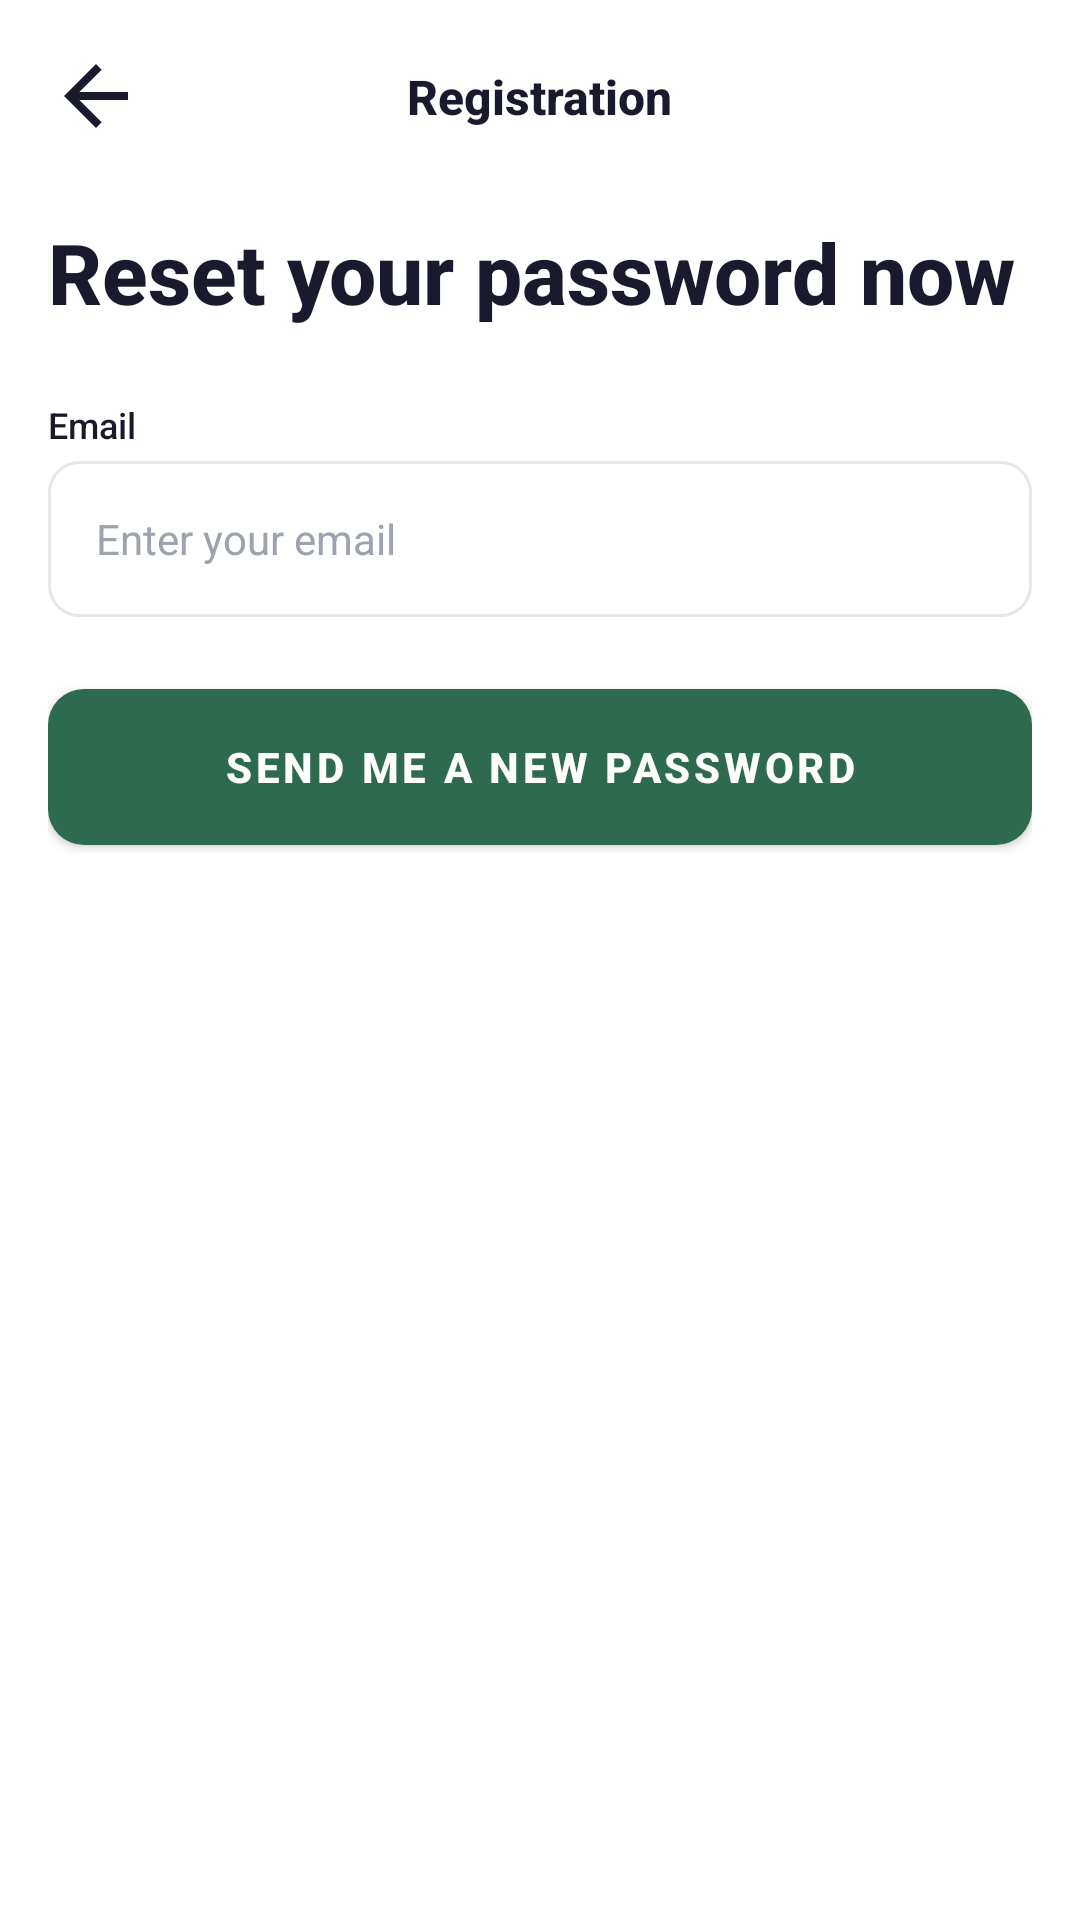

Named icons in this screenshot (1080*1920) and their bounding boxes, (x1, y1, x2, y2):
Back: (64, 64, 128, 128)
